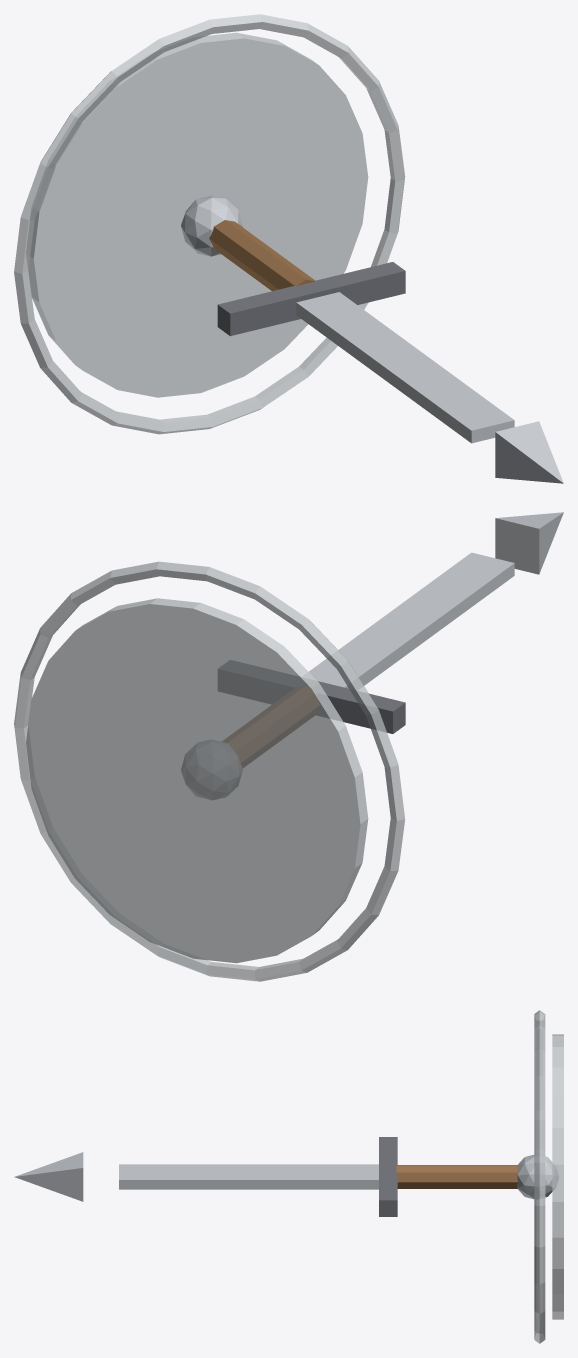
Rendered from weapon_pickup_short_sword_common.glb.
3 views of the same model, one above another, from view 1: azimuth 30°, elevation 25°; view 2: azimuth 150°, elevation 25°; view 3: azimuth 270°, elevation 25° (orthographic). The views are drawn at different scales.
Visible parts, largest first — view 1: rarity_base_disc, rarity_orbit_ring, blade, guard, grip, tip, pommel; view 2: rarity_base_disc, rarity_orbit_ring, blade, guard, grip, tip, pommel; view 3: blade, rarity_orbit_ring, rarity_base_disc, grip, tip, pommel, guard.
Boxes of the visible parts, x1,y1,x2,y2 form: rarity_base_disc: (26,32,368,397); rarity_orbit_ring: (14,14,405,434); blade: (296,292,514,443); guard: (217,262,405,336); grip: (209,220,315,291); tip: (495,421,563,483); pommel: (181,195,242,256); rarity_base_disc: (26,598,368,963); rarity_orbit_ring: (14,561,405,981); blade: (302,552,514,689); guard: (218,660,405,733); grip: (222,686,319,767); tip: (495,512,563,574); pommel: (181,740,242,799); blade: (119,1164,378,1189); rarity_orbit_ring: (534,1010,545,1343); rarity_base_disc: (552,1034,563,1319); grip: (396,1165,518,1188); tip: (14,1152,83,1201); pommel: (517,1154,558,1199); guard: (379,1137,397,1216).
Size of the model in its own units: 1.45 by 1.45 by 2.38.
